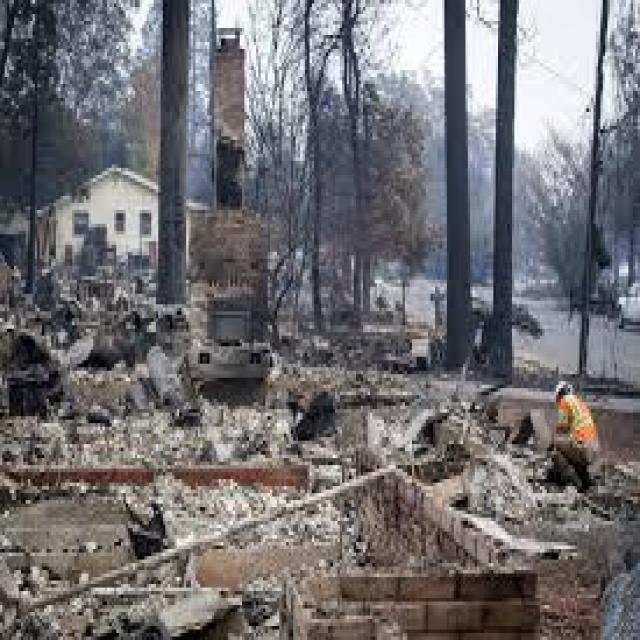Forest Fire: (119, 146, 553, 631)
